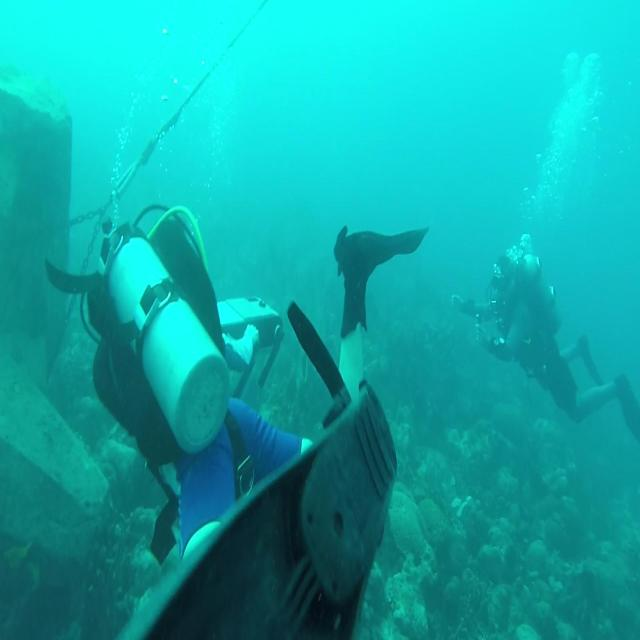human: (44, 202, 424, 636), (452, 238, 639, 442)
